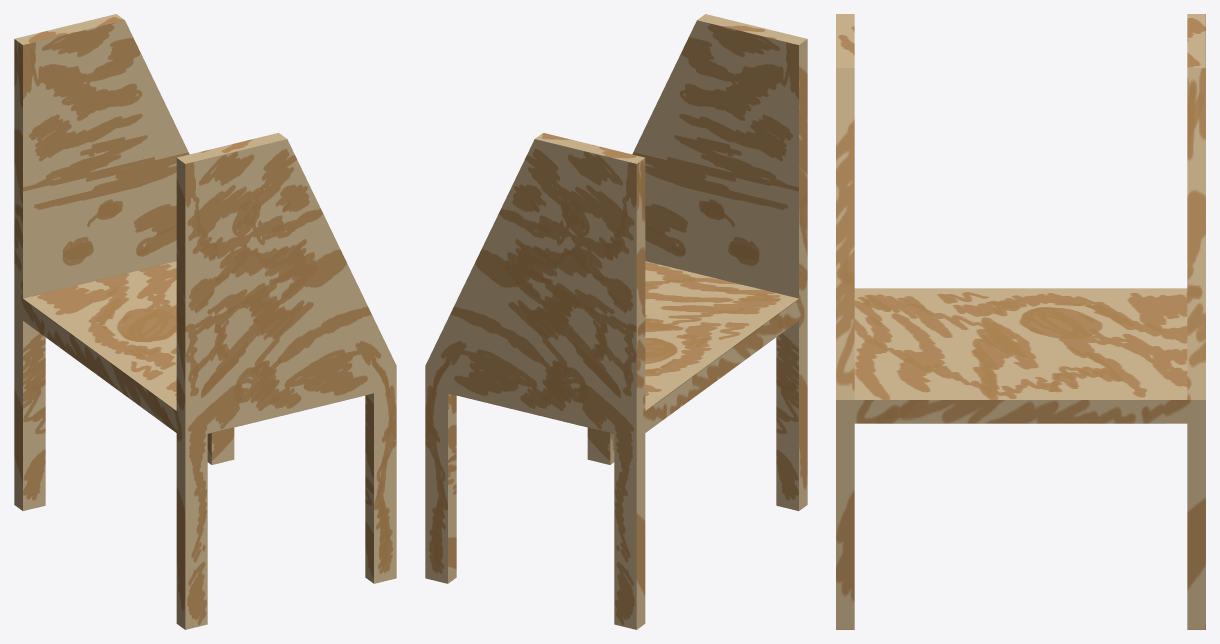
Rendered from LaneTable.fbx.
3 renders of one model, left to right at view 1: azimuth 30°, elevation 25°; view 2: azimuth 150°, elevation 25°; view 3: azimuth 270°, elevation 25°, orthographic. The views are drawn at different scales.
Visible parts, largest first — view 1: LaneTable; view 2: LaneTable; view 3: LaneTable.
Part boxes in pixels (box(x1,y1,x2,y2)): LaneTable: box(14, 14, 396, 629); LaneTable: box(425, 14, 807, 629); LaneTable: box(836, 14, 1205, 629).
Size of the model in its own units: 5 by 10.53 by 7.
Materials: 1 (1 with a texture image).
